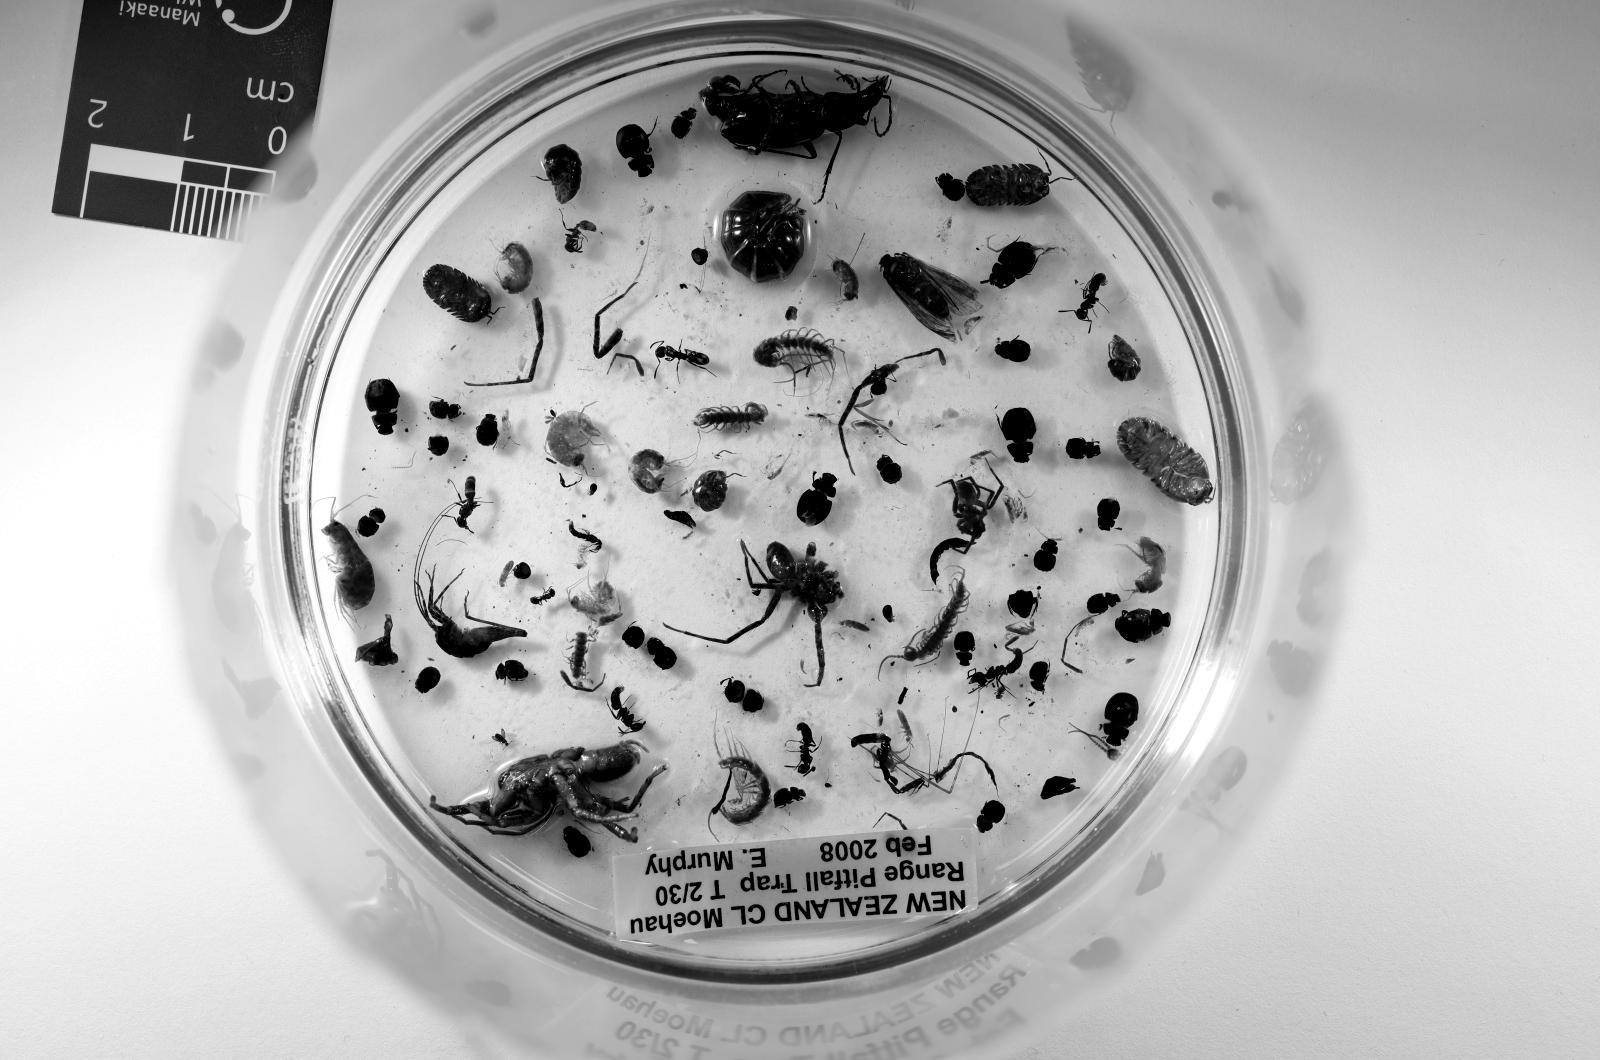amphipoda: (322, 512, 375, 627), (547, 410, 600, 466), (569, 578, 622, 621), (500, 242, 534, 295), (1134, 537, 1166, 593), (628, 450, 666, 494), (831, 261, 859, 301)
araneae: (662, 540, 844, 686), (431, 742, 666, 842), (941, 475, 1003, 540)
carabidae: (700, 75, 891, 158)
chilopoda: (881, 568, 969, 665), (753, 329, 844, 388), (719, 736, 772, 826), (694, 404, 769, 432)
coleoptera: (984, 242, 1038, 289), (1100, 693, 1141, 748), (797, 472, 838, 525), (1000, 407, 1038, 463), (616, 124, 653, 177), (1116, 609, 1172, 643), (366, 379, 400, 435), (975, 801, 1006, 832), (1031, 537, 1059, 571), (569, 522, 603, 550), (994, 338, 1031, 363), (562, 826, 591, 857), (647, 637, 675, 668), (356, 506, 384, 537), (475, 413, 500, 447), (953, 630, 975, 668), (938, 174, 966, 202), (672, 109, 697, 140), (1066, 438, 1100, 460), (772, 786, 806, 807), (428, 398, 462, 419), (1028, 661, 1050, 693), (416, 665, 441, 693), (1097, 500, 1119, 531), (1088, 593, 1119, 615), (497, 658, 528, 680), (878, 457, 903, 484)
collembola: (897, 708, 912, 742)
formicidae: (1059, 273, 1106, 332), (969, 649, 1022, 699), (609, 686, 647, 733), (653, 342, 709, 370), (456, 475, 478, 531), (794, 724, 816, 776), (566, 220, 597, 255), (531, 587, 556, 606)
isopoda: (1116, 419, 1212, 506), (719, 189, 803, 283), (422, 264, 494, 323), (966, 165, 1053, 205), (544, 143, 581, 205), (1109, 335, 1141, 382), (694, 469, 728, 512)
lepidoptera: (878, 252, 981, 342)
orthoptera: (412, 509, 525, 658)
